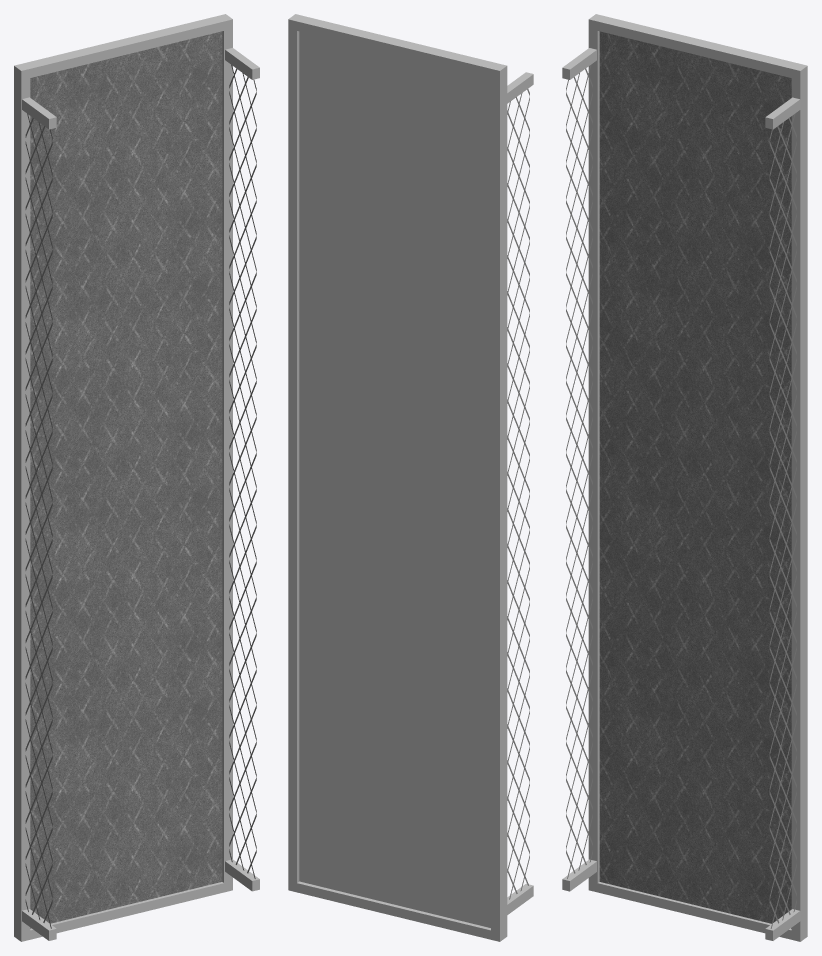
Rendered from Sign1.FBX.
3 views of the same model, side by side, from view 1: azimuth 30°, elevation 25°; view 2: azimuth 150°, elevation 25°; view 3: azimuth 330°, elevation 25° (orthographic).
Visible parts, largest first — view 1: Plane002, Line002, Plane005, Plane004; view 2: Plane001, Line002, Plane004; view 3: Plane002, Line002, Plane005, Plane004.
Boxes of the visible parts, box(x1,y1,x2,y2) form: Plane002: box(30, 31, 222, 928); Line002: box(14, 14, 259, 941); Plane005: box(229, 65, 256, 878); Plane004: box(25, 113, 52, 928); Plane001: box(299, 31, 490, 927); Line002: box(288, 14, 533, 941); Plane004: box(507, 89, 529, 899); Plane002: box(599, 31, 791, 928); Line002: box(562, 14, 807, 941); Plane005: box(769, 113, 796, 928); Plane004: box(566, 64, 592, 878).
Size of the model in its own units: 4.35 by 17.09 by 1.22.
